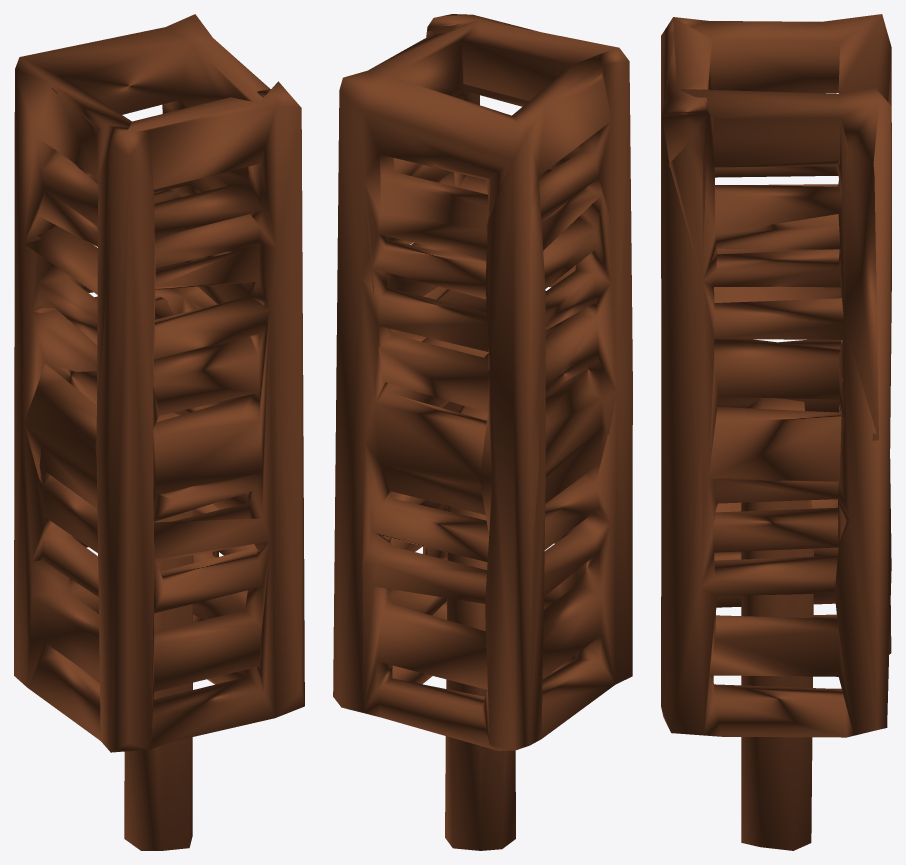
File: gen3d-xylophone-lod1.glb
3 views of the same model, side by side, from view 1: azimuth 30°, elevation 25°; view 2: azimuth 150°, elevation 25°; view 3: azimuth 270°, elevation 25° (orthographic).
Parts seen in each view (by area): view 1: part_0; view 2: part_0; view 3: part_0.
Part boxes in pixels (x1,y1,x2,y2): part_0: (14, 14, 304, 850); part_0: (333, 14, 632, 850); part_0: (661, 14, 891, 850).
Bounding box in the file's own units: 0.2647 × 0.9862 × 0.2644.
